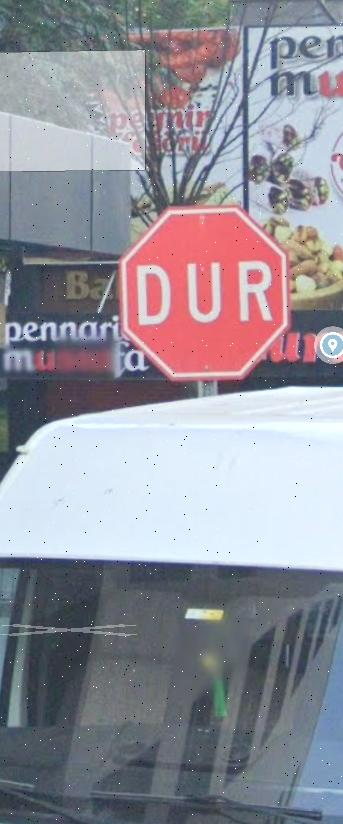stop: (123, 206, 290, 381)
